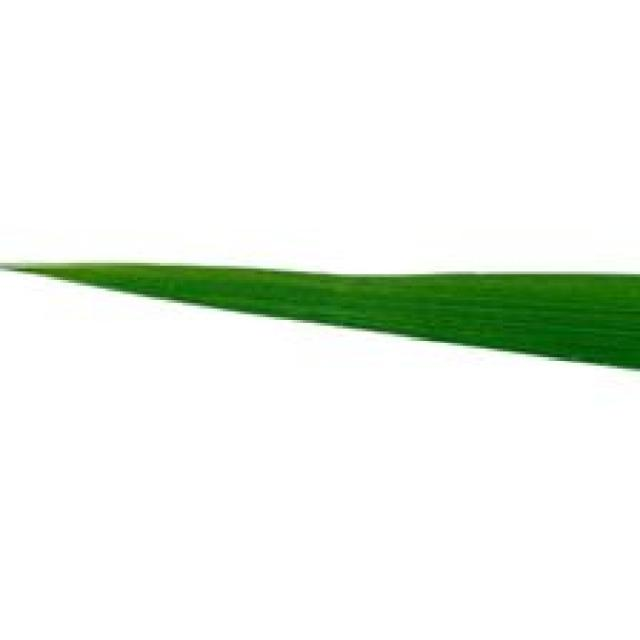Rice___Healthy_Rice_Plant: (4, 262, 637, 375)
